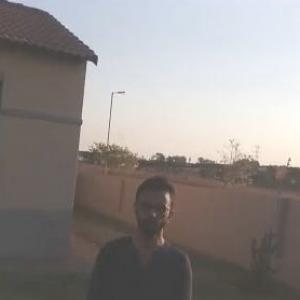follow: (76, 164, 195, 299)
